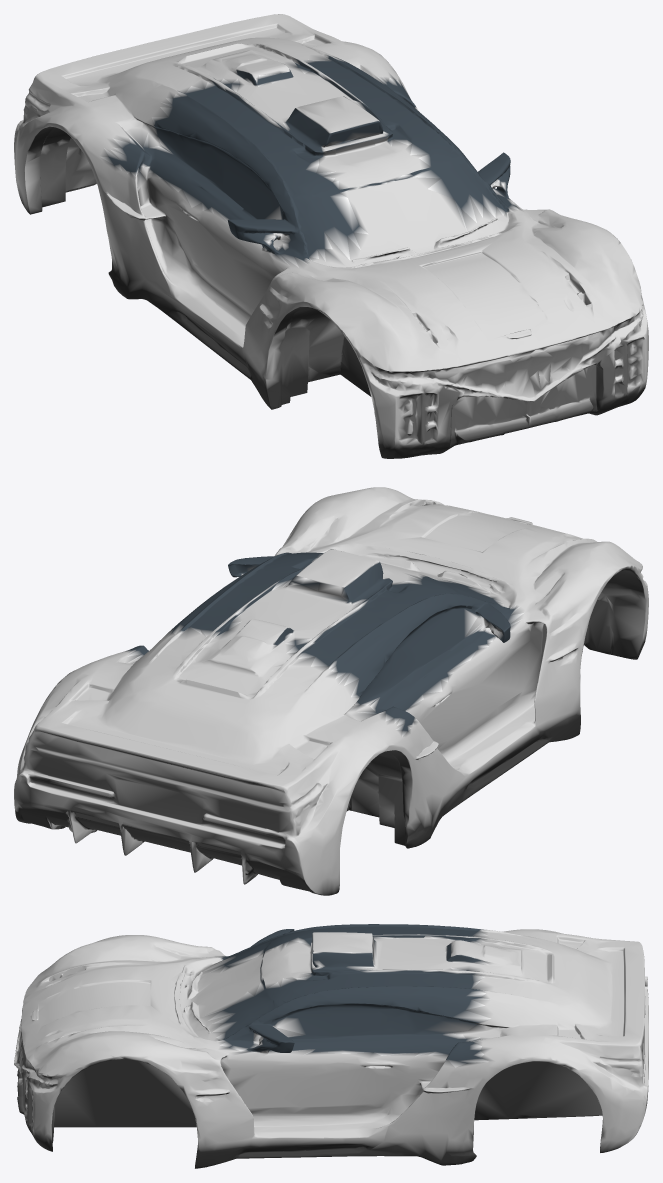
The model's file is genesis_body.glb.
3 views of the same model, one above another, from view 1: azimuth 30°, elevation 25°; view 2: azimuth 150°, elevation 25°; view 3: azimuth 270°, elevation 25° (orthographic). The views are drawn at different scales.
Parts seen in each view (by area): view 1: body; view 2: body; view 3: body.
Part boxes in pixels (x1,y1,x2,y2): body: [14, 14, 648, 458]; body: [14, 487, 648, 895]; body: [14, 924, 648, 1168].
Size of the model in its own units: 2.2 by 1.31 by 4.56.
